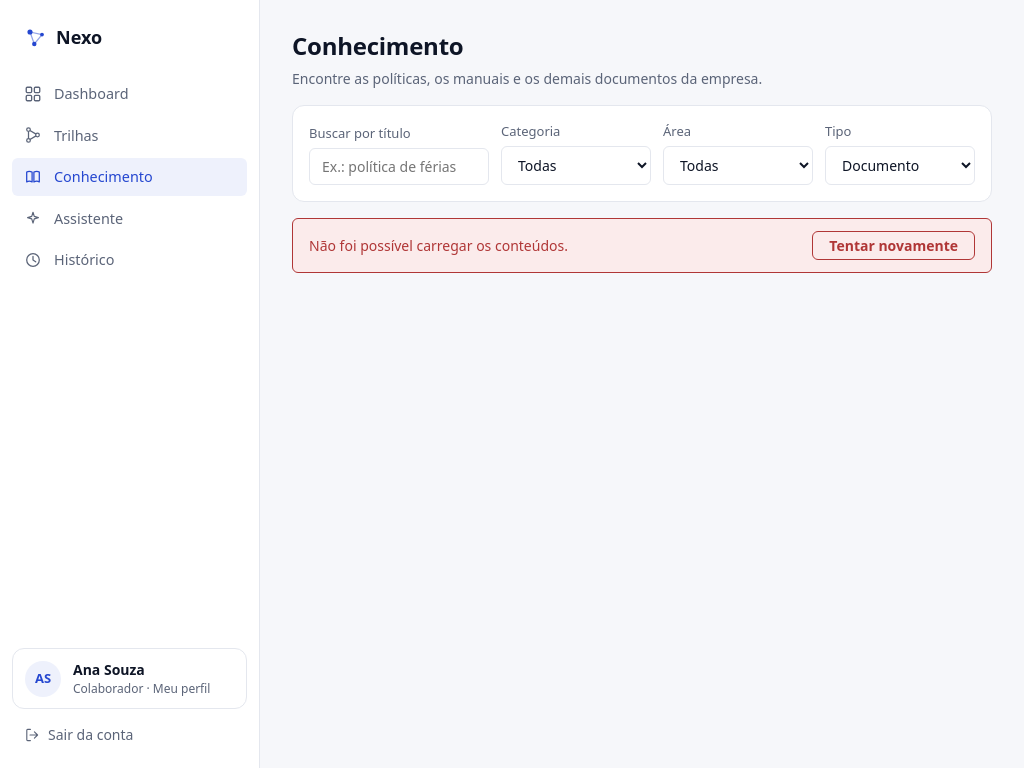
Test case: ConhecimentoPage › erro mostra a mensagem e permite tentar de novo
Expected: the message shows "Não foi possível carregar os conteúdos.", 309,236 -> 568,254
Click the button "Tentar novamente".
click(894, 245)  # box 812,230 -> 975,260
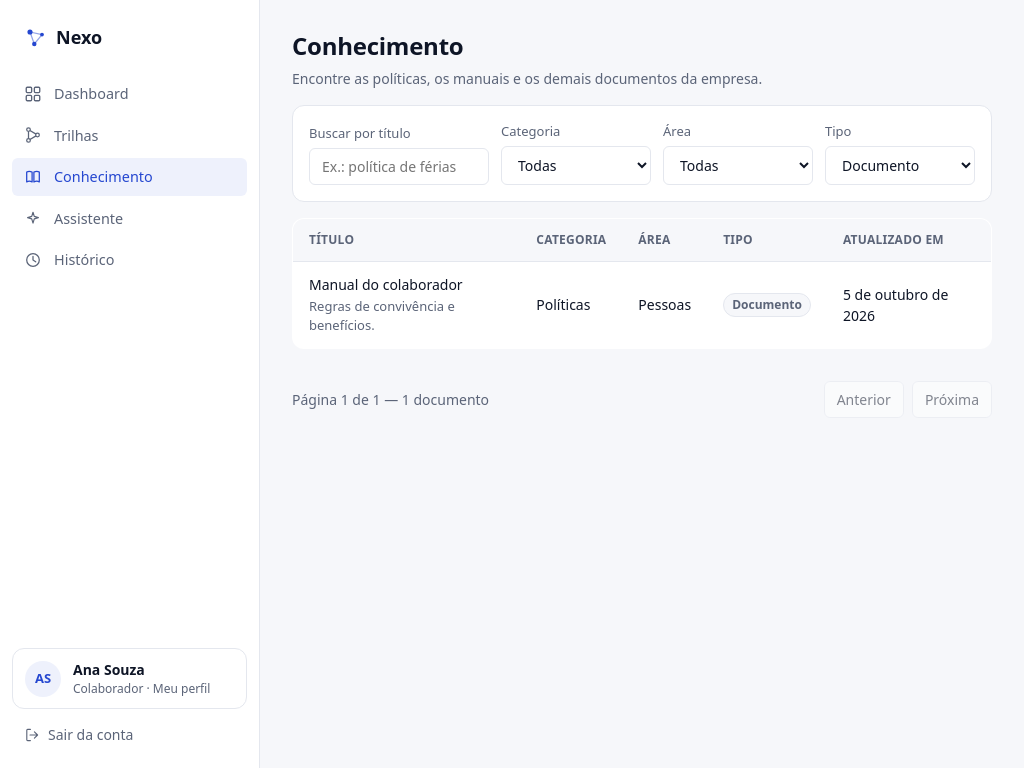
Result: the column heading "Manual do colaborador Regras de convivência e benefícios." is shown at 292,262 -> 520,348
